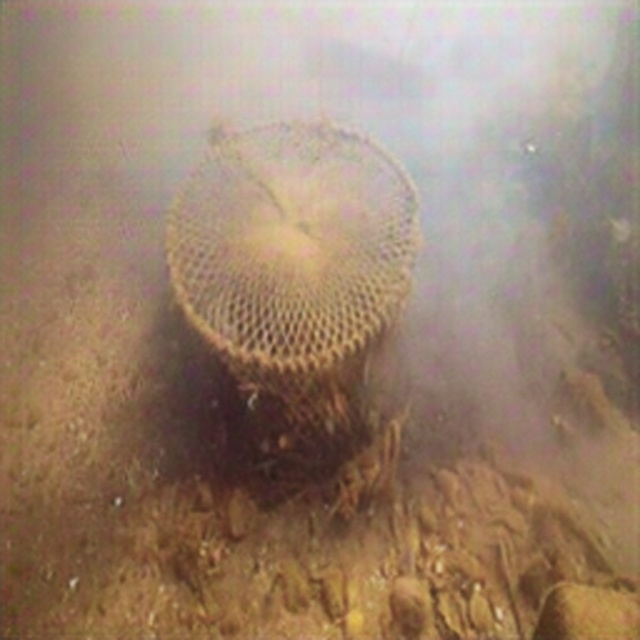mine: (164, 117, 421, 456)
